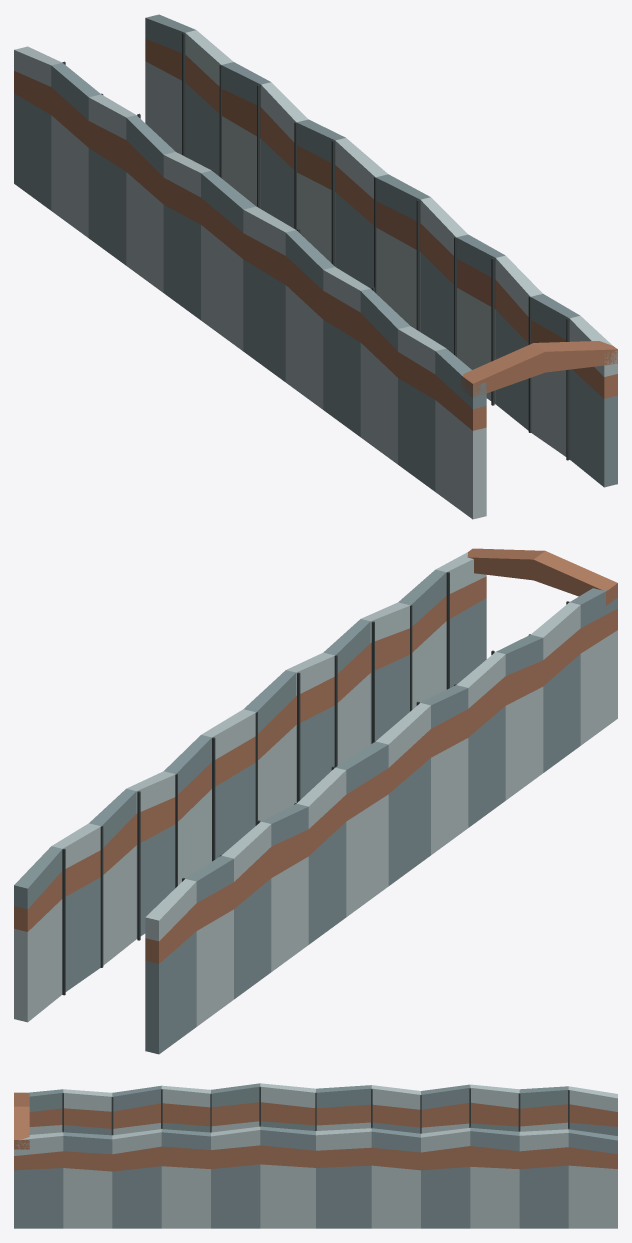
File: xinhua-pocket-park-hero.glb
The picture shows the model from 3 angles, top to bottom: view 1: azimuth 30°, elevation 25°; view 2: azimuth 150°, elevation 25°; view 3: azimuth 270°, elevation 25°; orthographic projection. The views are drawn at different scales.
Visible parts, largest first — view 1: xinhua-pocket-park-hero-left-wall, xinhua-pocket-park-hero-right-wall, xinhua-pocket-park-hero-entrance-header; view 2: xinhua-pocket-park-hero-left-wall, xinhua-pocket-park-hero-right-wall, xinhua-pocket-park-hero-entrance-header; view 3: xinhua-pocket-park-hero-right-wall, xinhua-pocket-park-hero-left-wall, xinhua-pocket-park-hero-entrance-header.
Part boxes in pixels (box(x1,y1,x2,y2)): xinhua-pocket-park-hero-left-wall: box(14, 46, 486, 519); xinhua-pocket-park-hero-right-wall: box(145, 14, 617, 487); xinhua-pocket-park-hero-entrance-header: box(461, 341, 617, 397); xinhua-pocket-park-hero-left-wall: box(145, 586, 617, 1054); xinhua-pocket-park-hero-right-wall: box(14, 552, 486, 1022); xinhua-pocket-park-hero-entrance-header: box(467, 548, 617, 605); xinhua-pocket-park-hero-right-wall: box(14, 1125, 617, 1228); xinhua-pocket-park-hero-left-wall: box(26, 1083, 617, 1135); xinhua-pocket-park-hero-entrance-header: box(14, 1092, 29, 1149).
Bounding box in the file's own units: 1.68 × 1.66 × 9.2.
